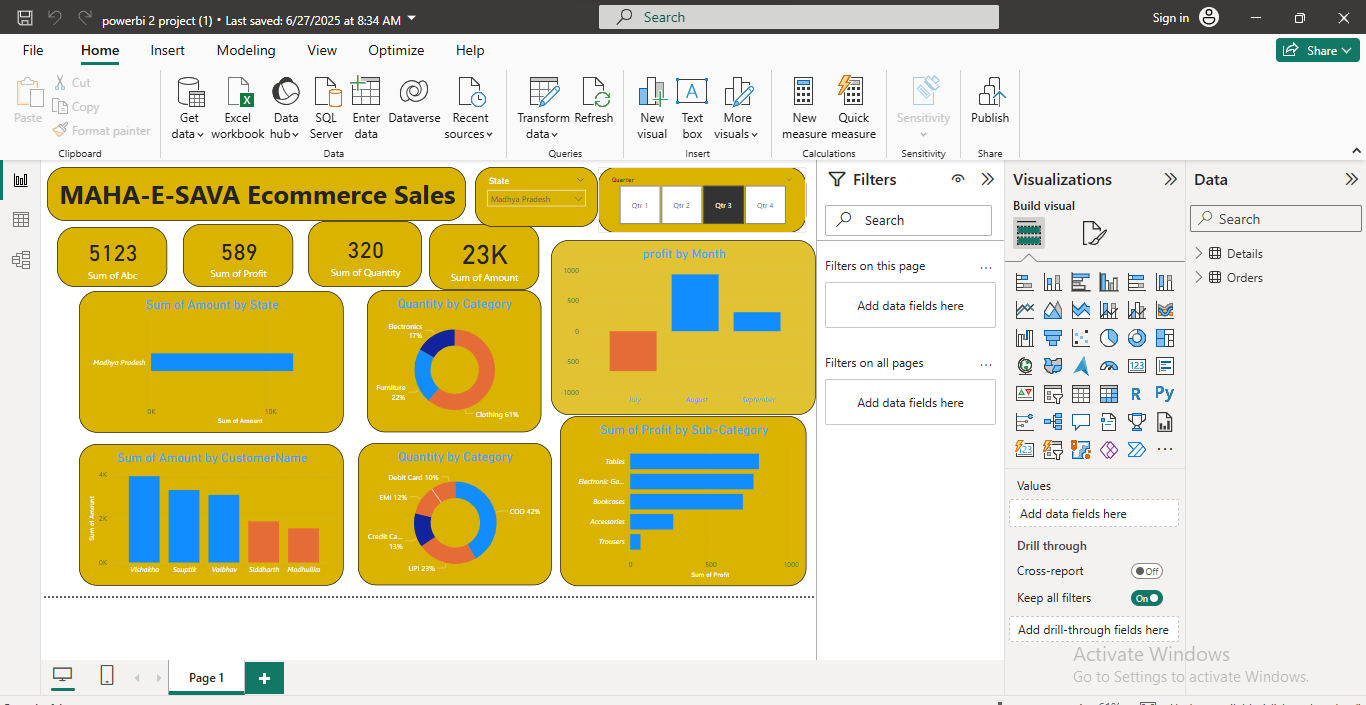

The dashboard page shown, as its layout file describes it:
{"tool":"powerbi","page":{"name":"Page 1","canvas":[1280,720],"ordinal":0},"visuals":[{"type":"textbox","box":[10,0,280,280],"z":0},{"type":"textbox","box":[9.9,11.6,692,89.2],"z":1000},{"type":"columnChart","title":"profit by Month","fields":{"Category":["Orders.Order Date.Variation.Date Hierarchy.Month"],"Y":["Details.Profit"]},"box":[842.7,132.9,437.3,289.3],"z":2000},{"type":"barChart","fields":{"Category":["Details.Sub-Category"],"Y":["Details.Profit"]},"box":[857.8,422.2,407,280.9],"z":3000},{"type":"donutChart","title":" Quantity by Category","fields":{"Category":["Details.Category"],"Y":["Details.Quantity"]},"box":[538.2,215.3,287.6,235.5],"z":4000},{"type":"donutChart","title":" Quantity by Category","fields":{"Y":["Details.Quantity"],"Category":["Details.PaymentMode"]},"box":[523.1,467.6,319.6,235.5],"z":5000},{"type":"card","fields":{"Values":["Details.Amount"]},"box":[640.8,106,181.7,109.3],"z":6000},{"type":"card","fields":{"Values":["Details.Quantity"]},"box":[440.7,100.9,188.4,109.3],"z":7000},{"type":"card","fields":{"Values":["Details.Profit"]},"box":[233.8,106,181.7,104.3],"z":8000},{"type":"card","fields":{"Values":["Details.Abc"]},"box":[26.9,111,181.7,99.2],"z":9000},{"type":"barChart","fields":{"Y":["Details.Amount"],"Category":["Orders.State"]},"box":[62.2,217,437.3,233.8],"z":10000},{"type":"columnChart","fields":{"Category":["Orders.CustomerName"],"Y":["Details.Amount"]},"box":[62.2,469.3,437.3,233.8],"z":11000},{"type":"slicer","fields":{"Values":["Orders.Order Date.Variation.Date Hierarchy.Quarter"]},"box":[919.9,11.6,343.5,109],"z":12000},{"type":"slicer","fields":{"Values":["Orders.State"]},"box":[716.8,11.6,203.1,99.1],"z":13000}]}

Visuals, with their boxes on the page's 1280x720 design canvas (x1, y1, x2, y2). These are canvas units, not pixel positions in the 1366x705 screenshot, which may show the page scaled, cropped or inside an application window:
textbox: [x1=10, y1=0, x2=290, y2=280]
textbox: [x1=10, y1=12, x2=702, y2=101]
"profit by Month" columnChart: [x1=843, y1=133, x2=1280, y2=422]
barChart - Details.Sub-Category x Details.Profit: [x1=858, y1=422, x2=1265, y2=703]
" Quantity by Category" donutChart: [x1=538, y1=215, x2=826, y2=451]
" Quantity by Category" donutChart: [x1=523, y1=468, x2=843, y2=703]
card - Details.Amount: [x1=641, y1=106, x2=822, y2=215]
card - Details.Quantity: [x1=441, y1=101, x2=629, y2=210]
card - Details.Profit: [x1=234, y1=106, x2=416, y2=210]
card - Details.Abc: [x1=27, y1=111, x2=209, y2=210]
barChart - Details.Amount x Orders.State: [x1=62, y1=217, x2=500, y2=451]
columnChart - Orders.CustomerName x Details.Amount: [x1=62, y1=469, x2=500, y2=703]
slicer - Orders.Order Date.Variation.Date Hierarchy.Quarter: [x1=920, y1=12, x2=1263, y2=121]
slicer - Orders.State: [x1=717, y1=12, x2=920, y2=111]
